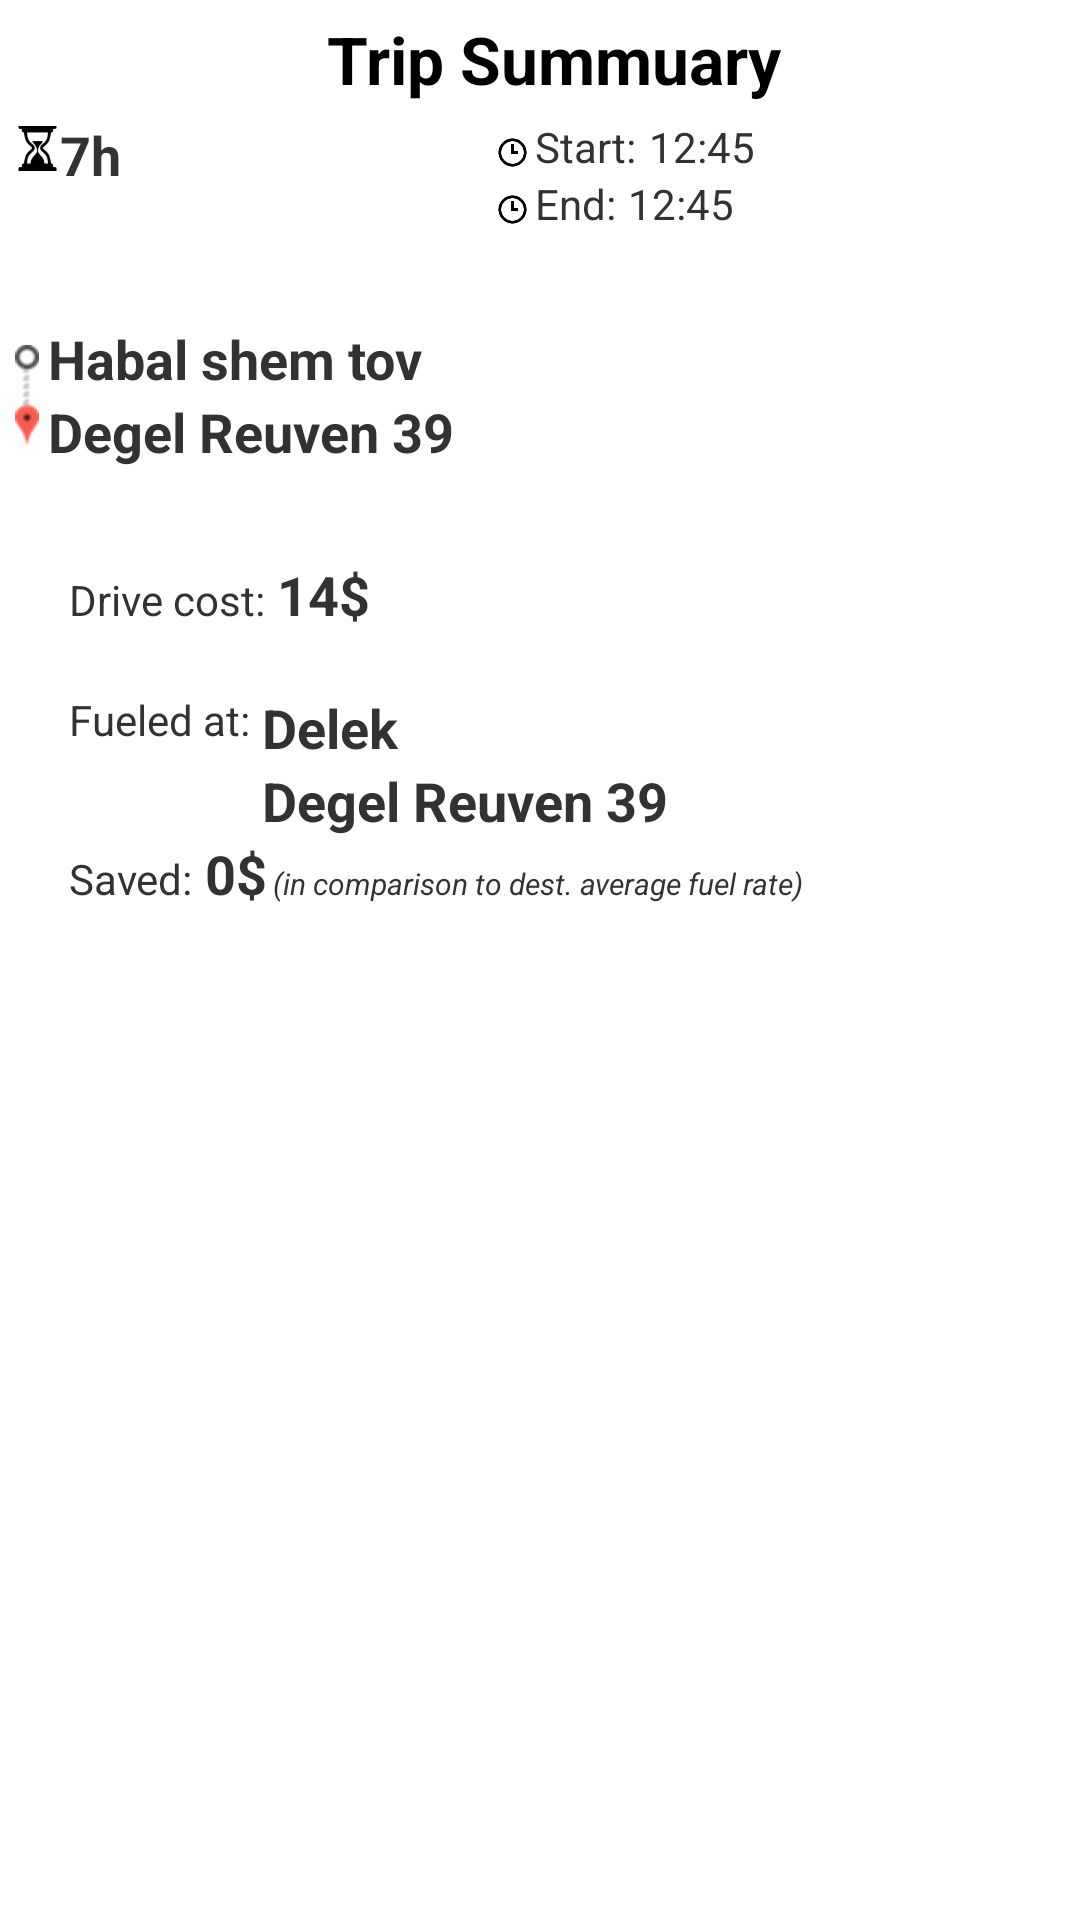

Icon click points for this 1080px×1920px phone screenshot, format [x,y]:
clock: [512,152], [512,209]
hourglass: [37,148]
route: [27,395]
